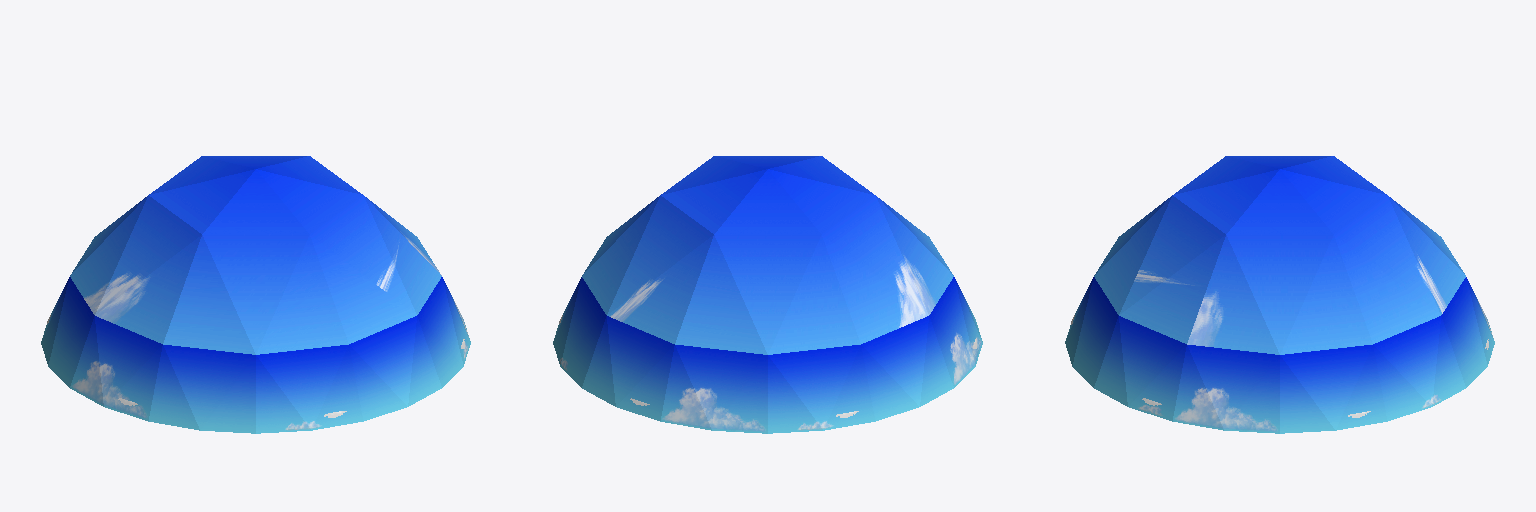
3 renders of one model, left to right at view 1: azimuth 30°, elevation 25°; view 2: azimuth 150°, elevation 25°; view 3: azimuth 270°, elevation 25°, orthographic.
Visible parts, largest first — view 1: polygon1; view 2: polygon1; view 3: polygon1.
Part boxes in pixels (x1,y1,x2,y2): polygon1: (41, 156, 470, 433); polygon1: (553, 156, 982, 433); polygon1: (1065, 156, 1494, 433).
Bounding box in the file's own units: 140014 × 62425 × 140040.
2 materials, 2 textured.